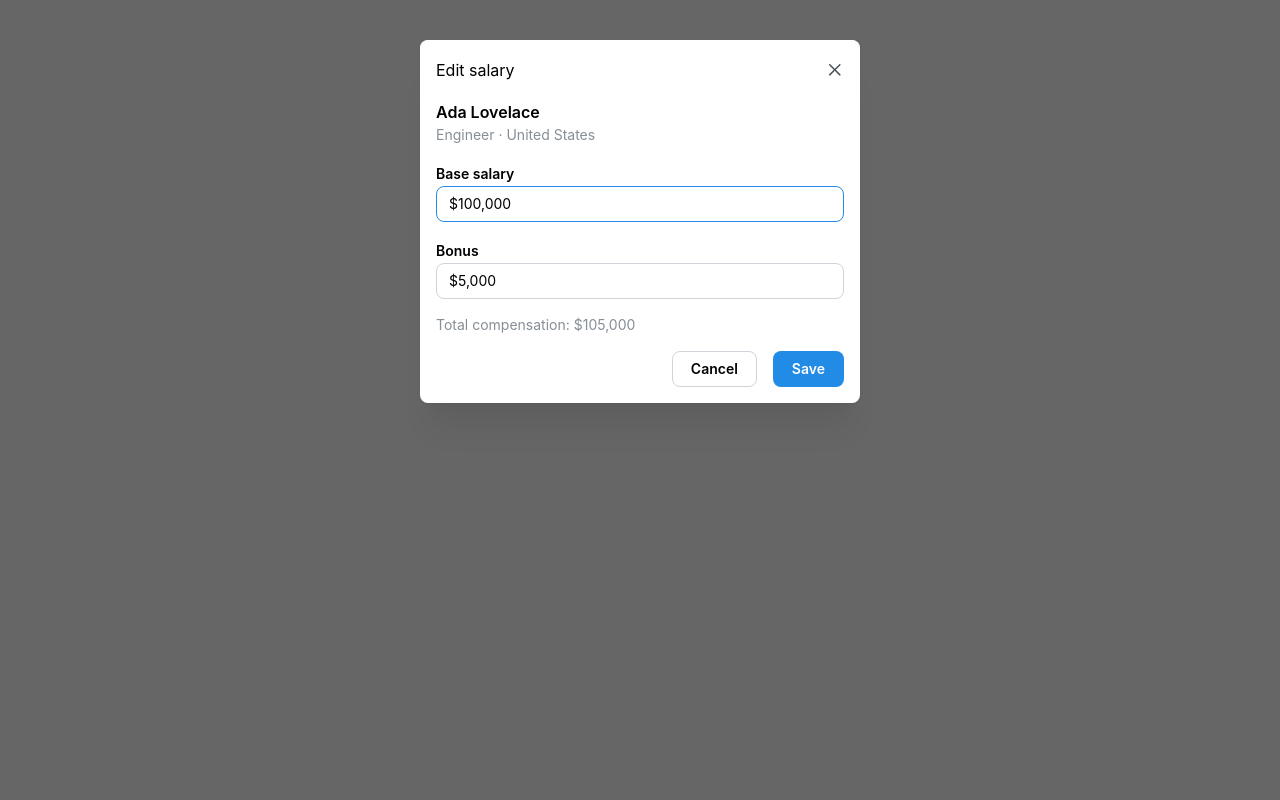
SalaryEditModal › rejects a base salary above the maximum
Replace the text in the field labelled "Base salary" with "10000001": (640, 204) [436,186,844,222]
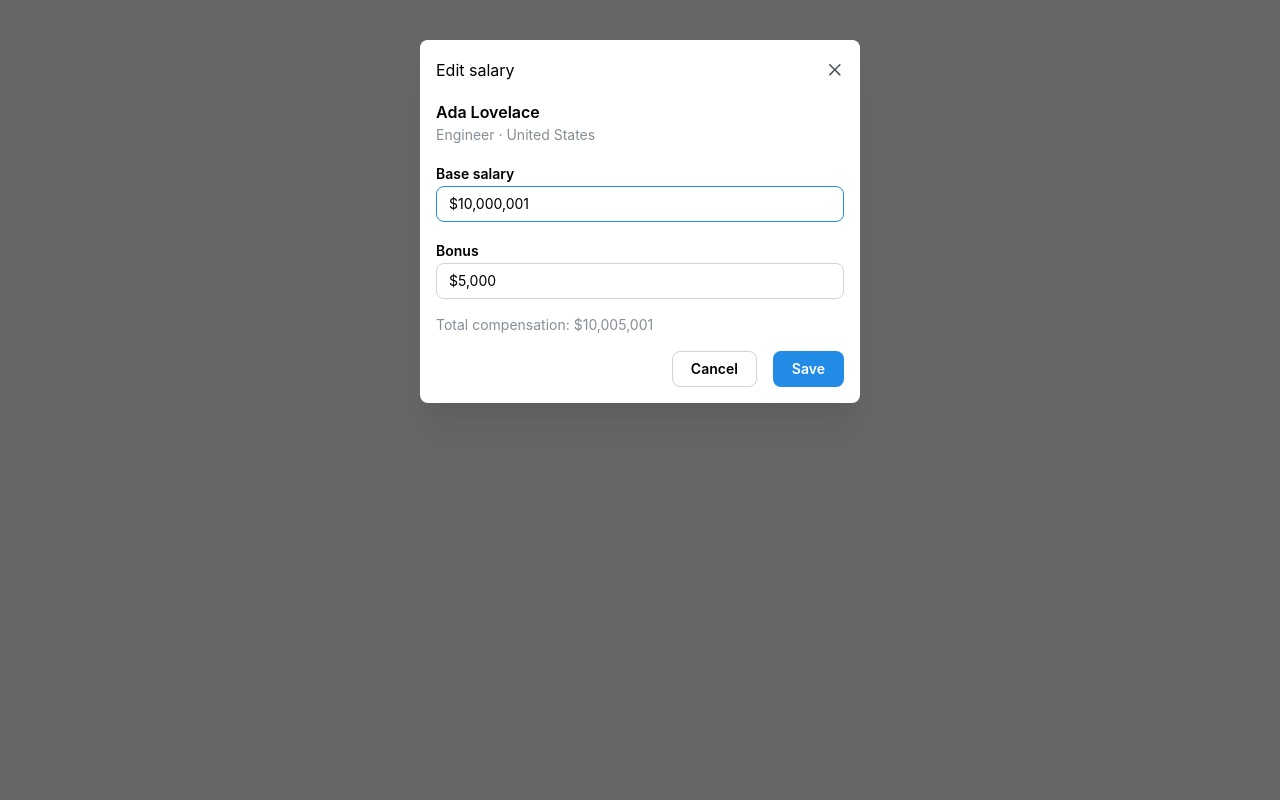
Click the button "Save": (808, 369) [773,351,844,387]
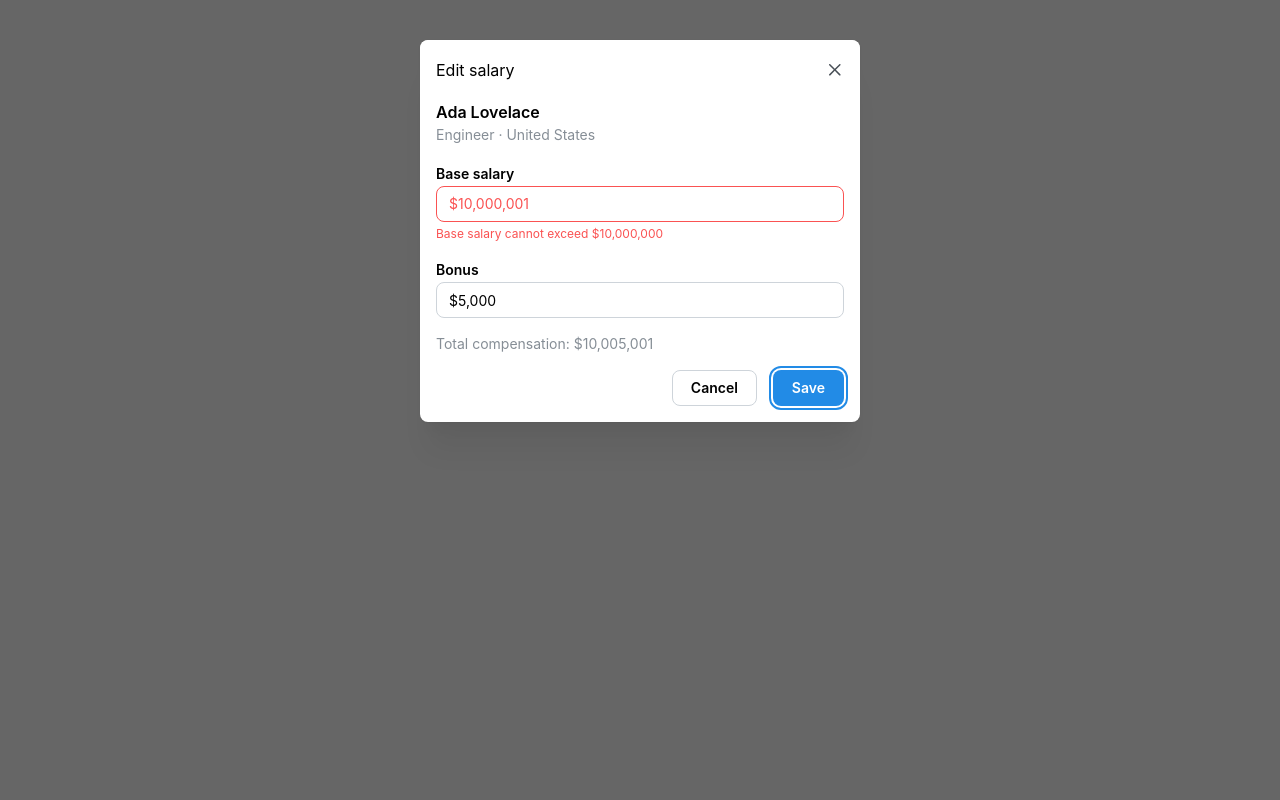
Expected: the text "Base salary cannot exceed $10,000,000" is shown, [436,226,663,241]
